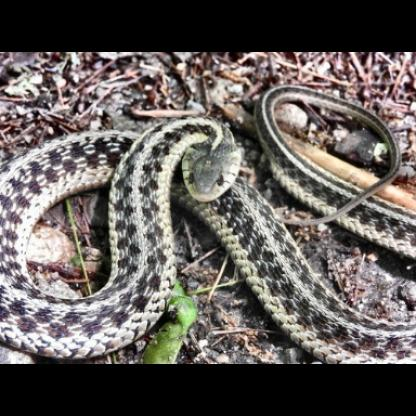Snake: (0, 117, 416, 365)
